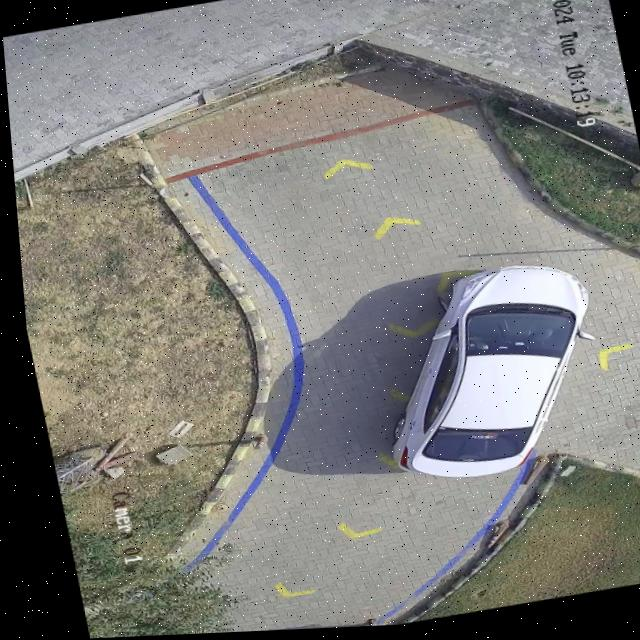car: (383, 269, 586, 482)
